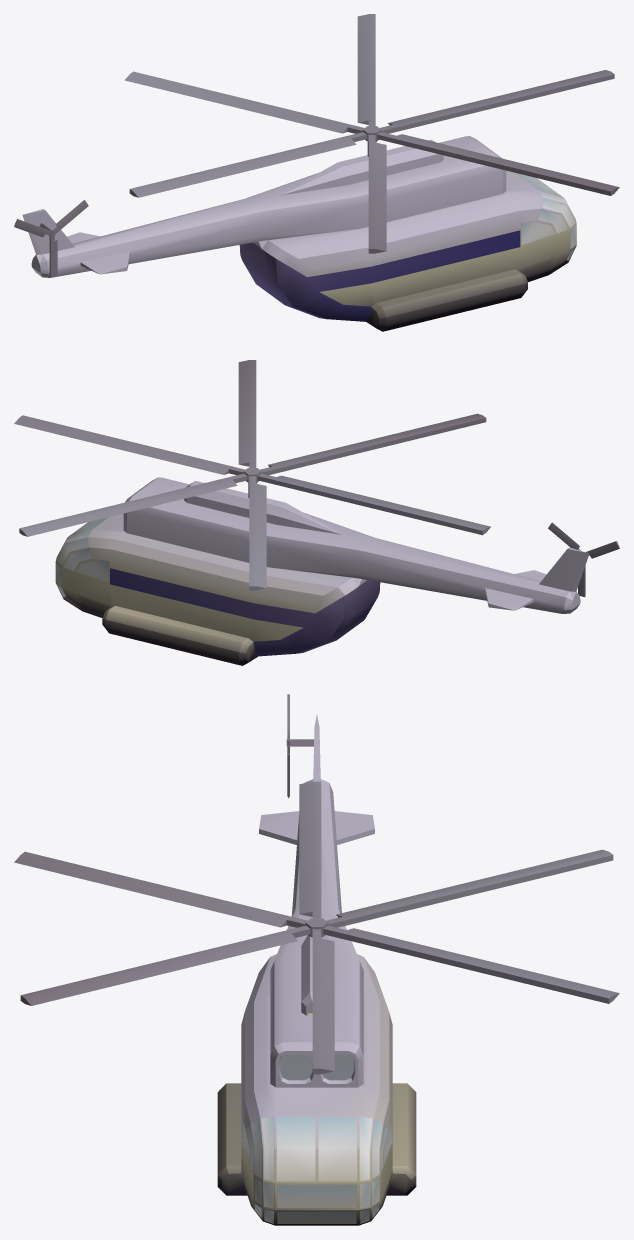
3 renders of one model, top to bottom at view 1: azimuth 30°, elevation 25°; view 2: azimuth 150°, elevation 25°; view 3: azimuth 270°, elevation 25°, orthographic. The views are drawn at different scales.
Parts seen in each view (by area): view 1: Mi8; view 2: Mi8; view 3: Mi8.
Part boxes in pixels (x1,y1,x2,y2): Mi8: (14,14,619,331); Mi8: (14,360,619,665); Mi8: (14,694,619,1225).
Size of the model in its own units: 936 by 264 by 658.
